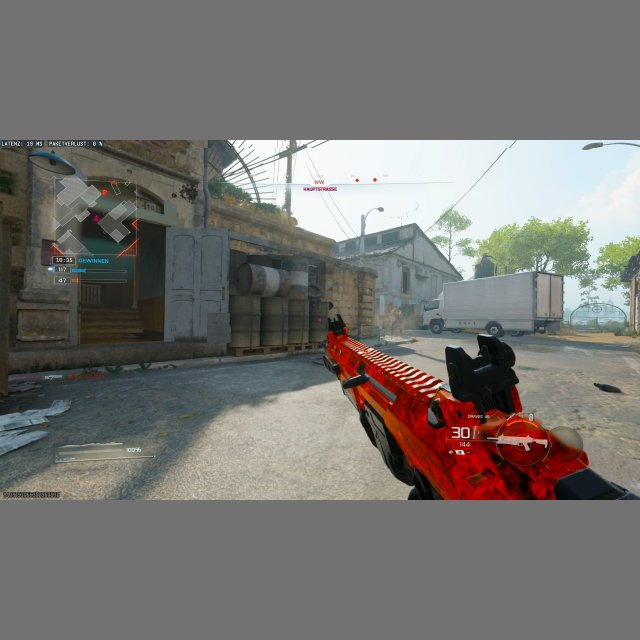player: (389, 306, 404, 336)
